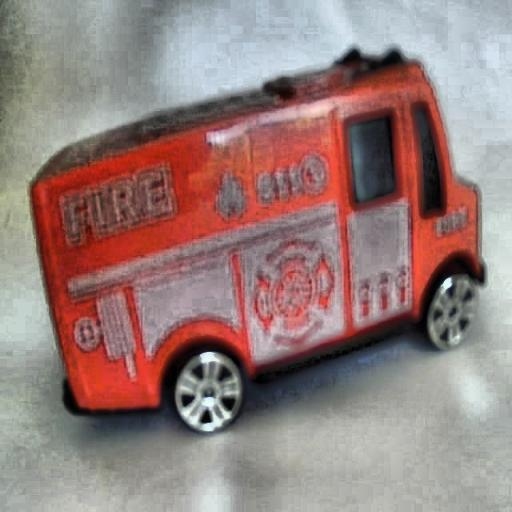fire_truck: (29, 47, 483, 433)
